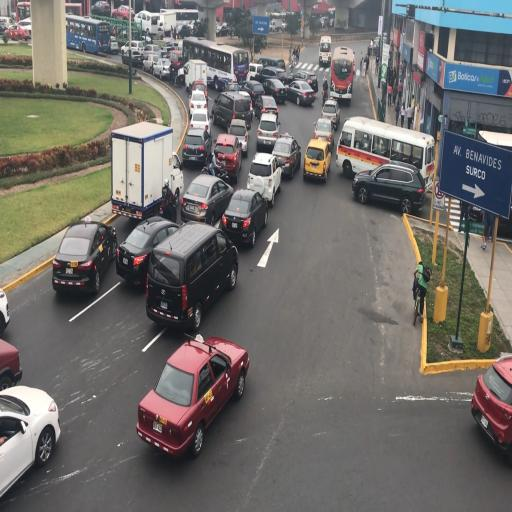auto: (136, 331, 246, 458), (144, 222, 236, 328), (1, 385, 60, 508), (52, 218, 117, 295), (471, 354, 512, 468), (116, 215, 180, 288), (350, 160, 422, 214), (180, 170, 235, 224), (221, 188, 266, 248), (246, 153, 280, 207), (212, 89, 252, 132), (181, 125, 214, 168), (271, 134, 300, 180), (213, 132, 243, 176), (303, 136, 329, 184), (0, 336, 21, 390), (256, 112, 280, 153), (227, 118, 249, 156), (286, 79, 314, 107), (255, 94, 279, 125), (241, 79, 264, 111), (313, 116, 334, 151), (261, 77, 287, 105), (188, 108, 210, 140), (258, 65, 288, 87), (321, 97, 340, 128), (167, 52, 186, 83), (150, 57, 174, 80), (296, 70, 318, 94), (189, 86, 207, 115), (4, 22, 31, 41), (121, 40, 144, 62), (91, 0, 110, 17), (159, 41, 178, 58), (142, 44, 162, 60), (117, 6, 135, 20), (216, 22, 230, 36), (269, 22, 276, 33)
bus: (110, 120, 175, 223), (185, 59, 208, 96)
moto: (183, 36, 239, 90), (66, 13, 110, 54), (331, 44, 354, 102), (160, 8, 200, 38), (134, 9, 163, 39), (318, 34, 332, 66), (16, 1, 30, 23)
